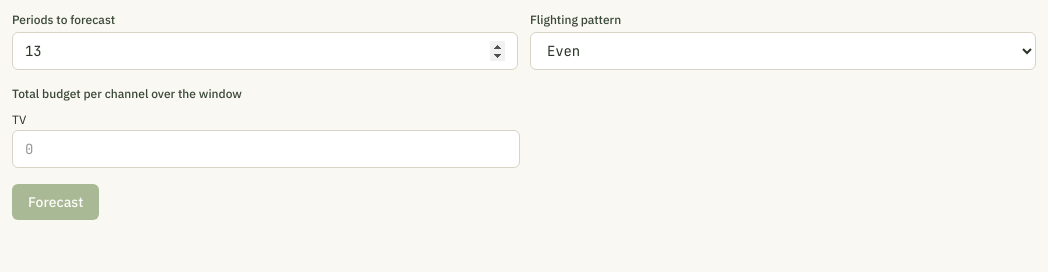
ForecastPanel › surfaces a job error instead of an empty panel
Type "100" into the number field named "TV forecast budget" at (266, 149), box [12, 130, 520, 168]
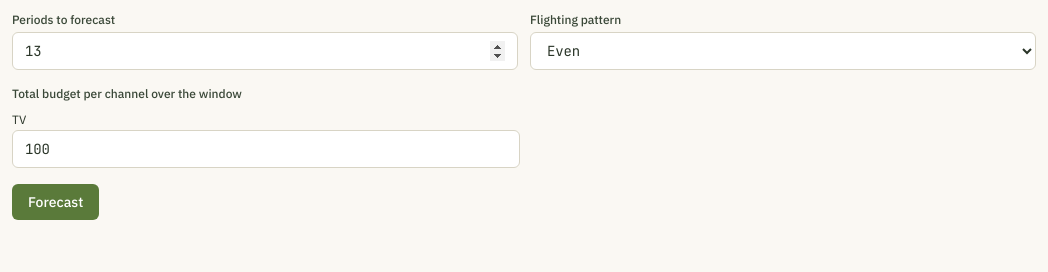
Click the button "Forecast" at (56, 202), box [12, 184, 99, 220]
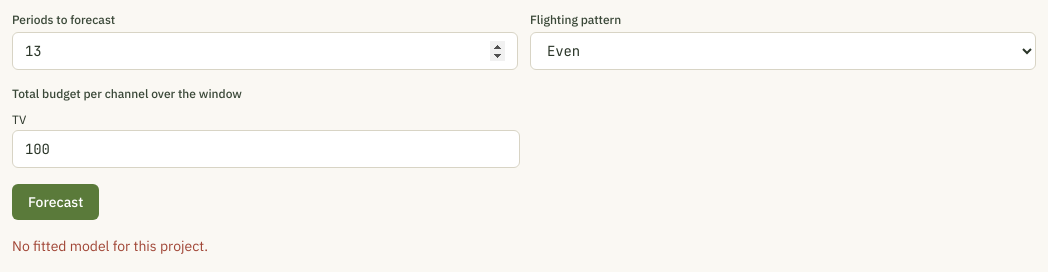
Expected: the text "No fitted model for this project." is shown, [12, 237, 208, 255]
